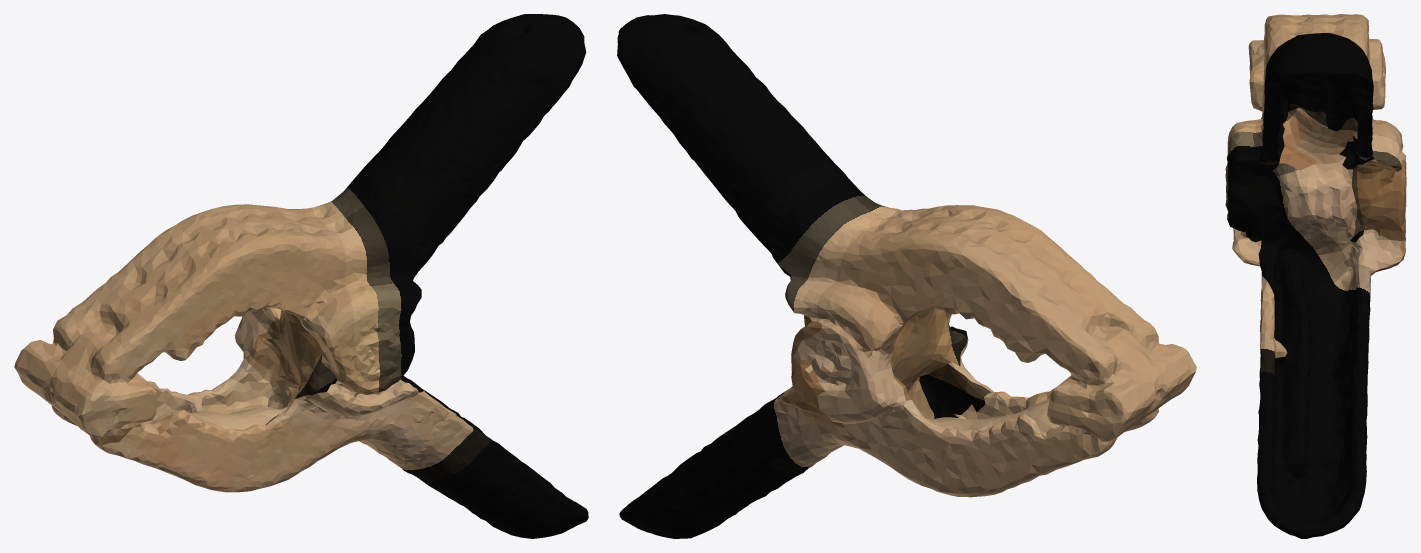
3 renders of one model, left to right at view 1: azimuth 30°, elevation 25°; view 2: azimuth 150°, elevation 25°; view 3: azimuth 270°, elevation 25°, orthographic. The views are drawn at different scales.
Bounding box in the file's own units: 0.0848 × 0.0772 × 0.0261.
